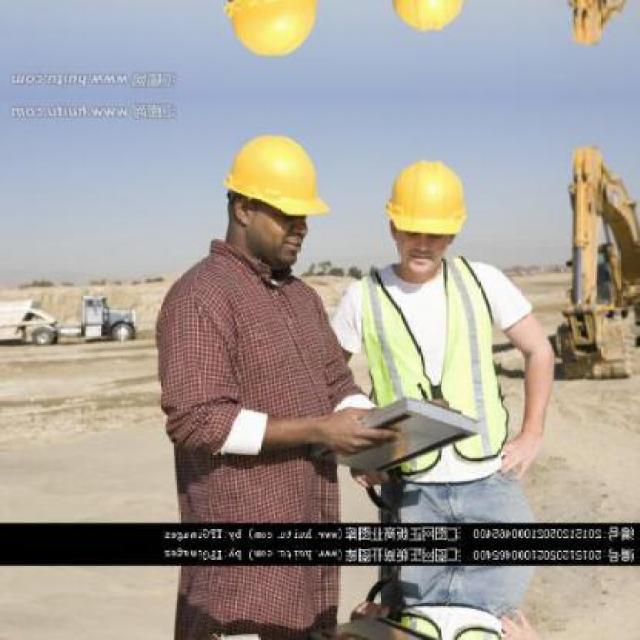Reflective-Jacket: (348, 256, 515, 483)
Safety-Helmet: (216, 128, 336, 230), (372, 153, 482, 248), (222, 1, 326, 62)
